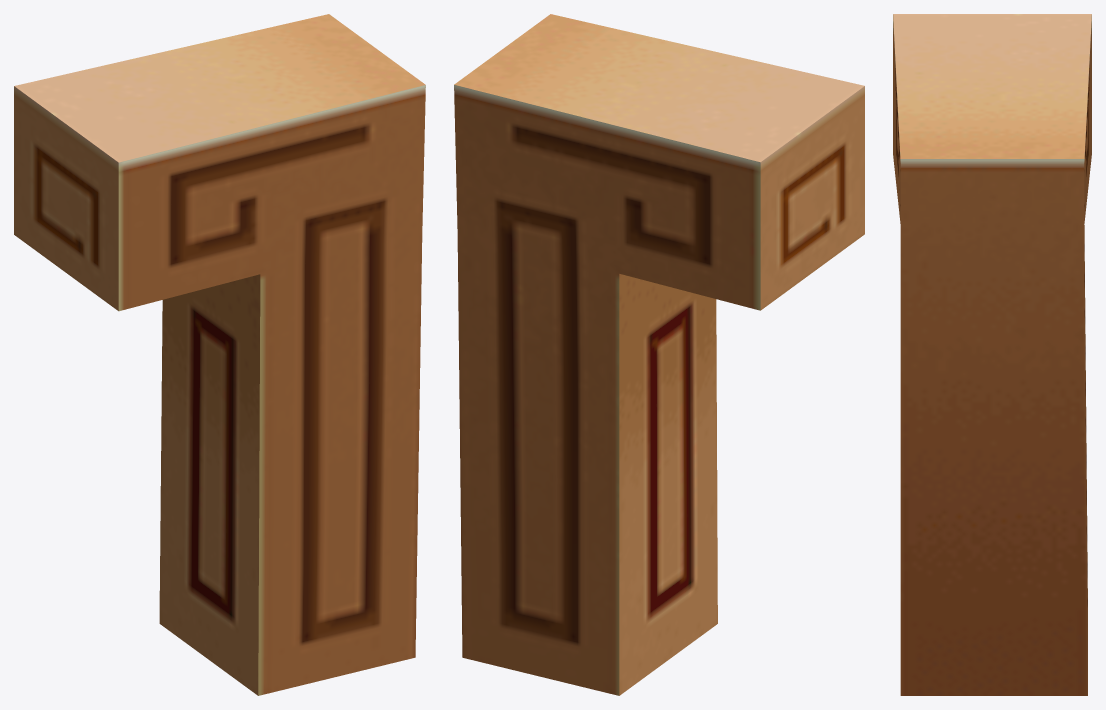
File: sm_shizhu1.fbx
3 views of the same model, side by side, from view 1: azimuth 30°, elevation 25°; view 2: azimuth 150°, elevation 25°; view 3: azimuth 270°, elevation 25° (orthographic). The views are drawn at different scales.
Visible parts, largest first — view 1: sm_shizhu1; view 2: sm_shizhu1; view 3: sm_shizhu1.
Boxes of the visible parts, x1,y1,x2,y2 form: sm_shizhu1: (14,14,425,695); sm_shizhu1: (454,14,864,695); sm_shizhu1: (893,14,1091,695).
Size of the model in its own units: 748 by 1313 by 436.
